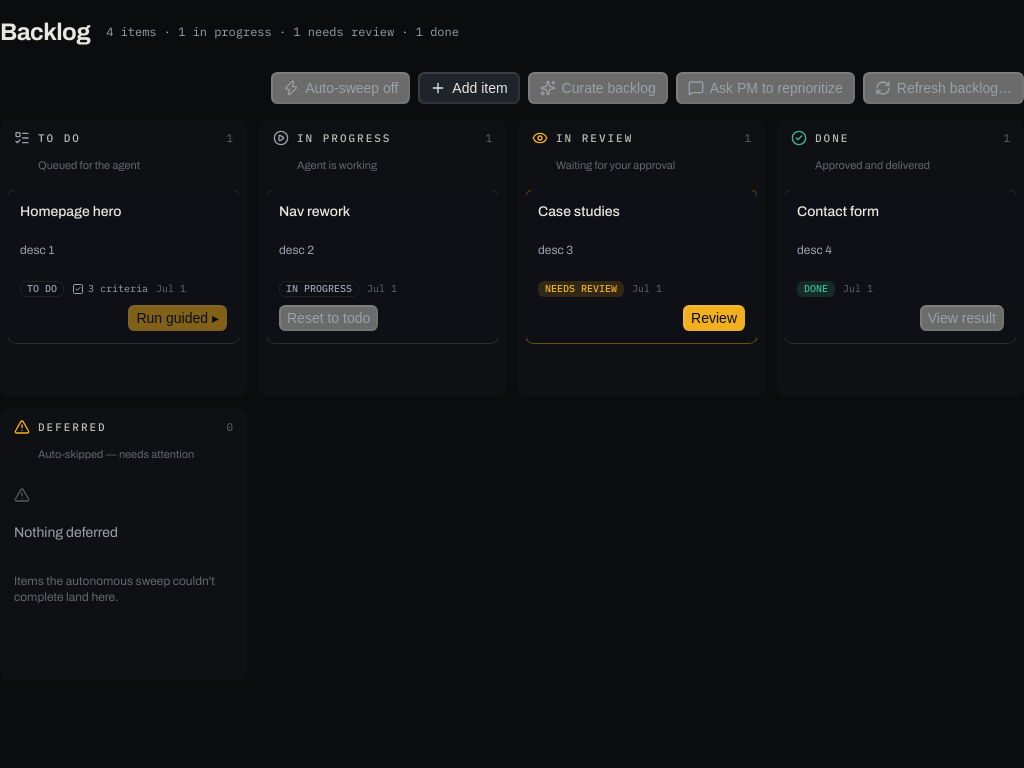
Backlog board › clicking a card opens the detail drawer with real fields only
This screenshot has width=1024, height=768.
Click the button with aria-label "Open details for Homepage hero": (124, 267) [8,190,239,343]
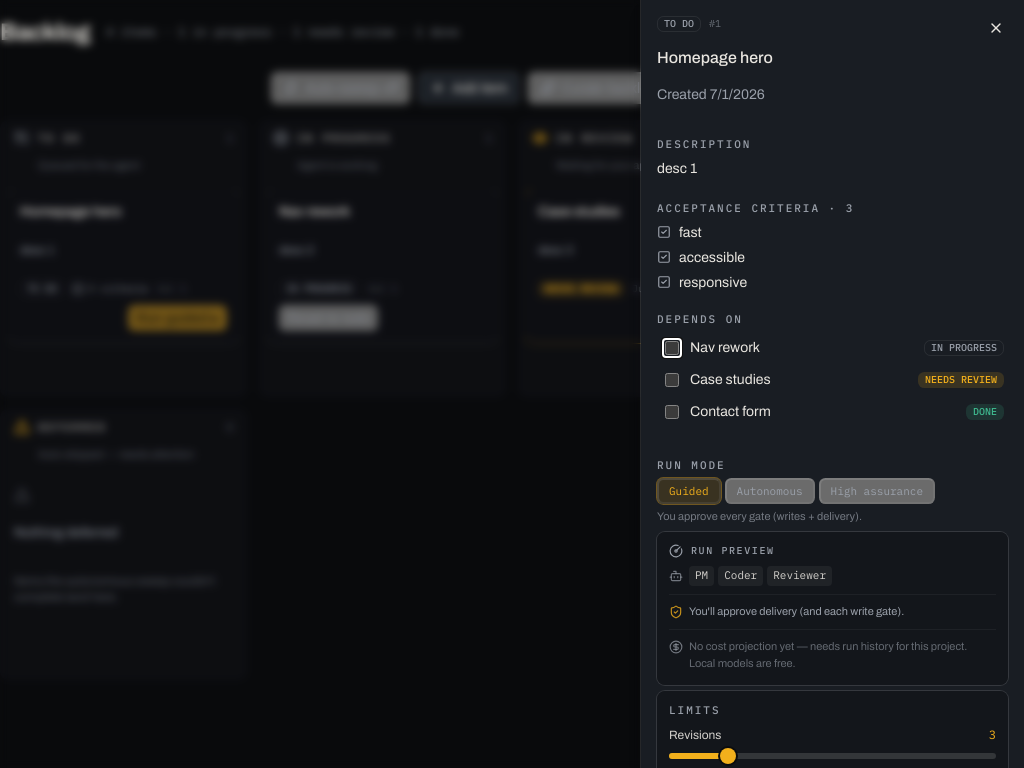
Expected: the heading "Homepage hero" is shown, [657,49,773,66]
Expected: the text "desc 1" is shown, [657,161,697,176]
Expected: the text "Acceptance criteria · 3" is shown, [657,201,854,215]
